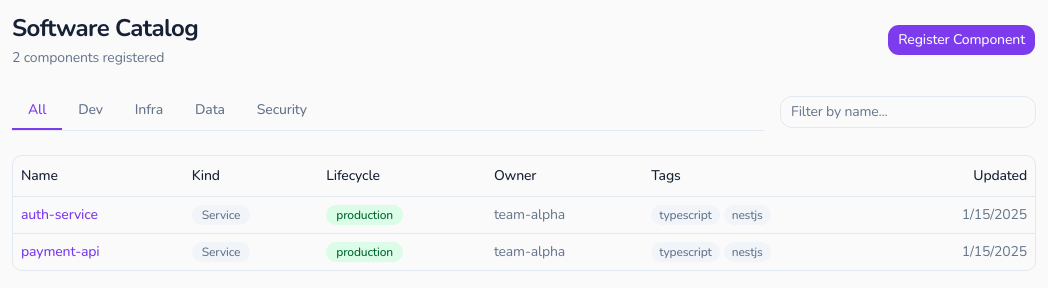
Test: CatalogClient › filters components by name using the search input (client-side)
Expected: the link "auth-service" is shown, x1=21 y1=204 x2=98 y2=224
Type "payment" into the field with placeholder "Filter by name..." at (908, 112), box x1=780 y1=96 x2=1036 y2=128
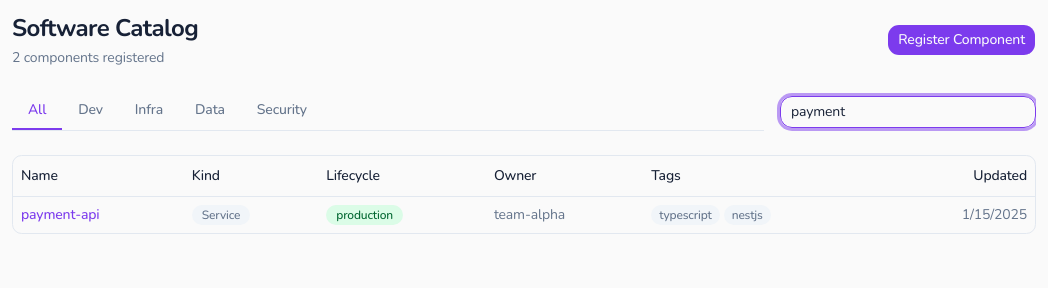
Expected: the link "payment-api" is shown, x1=21 y1=204 x2=100 y2=224
Now the link "auth-service" is gone
